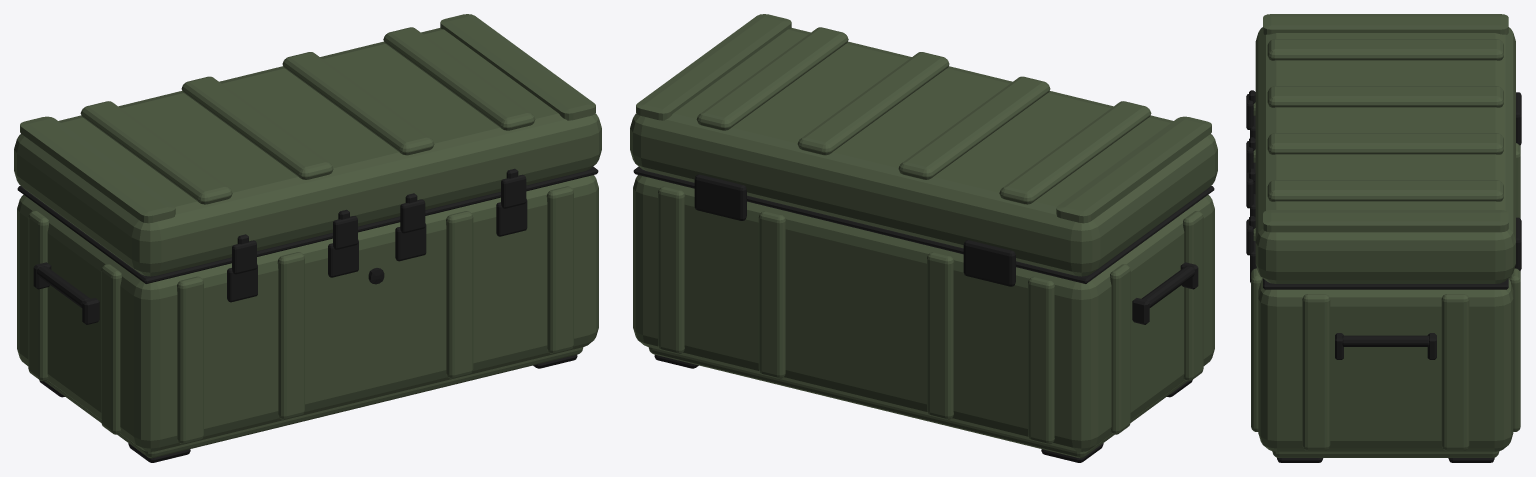
The model's file is SRZ_TransportCase.fbx.
3 views of the same model, side by side, from view 1: azimuth 30°, elevation 25°; view 2: azimuth 150°, elevation 25°; view 3: azimuth 270°, elevation 25° (orthographic). The views are drawn at different scales.
Visible parts, largest first — view 1: TransportCase; view 2: TransportCase; view 3: TransportCase.
Part boxes in pixels (x1,y1,x2,y2): TransportCase: [14, 14, 601, 462]; TransportCase: [630, 14, 1217, 462]; TransportCase: [1246, 14, 1521, 462].
Size of what is drawn, in the model's own units: 118 by 59.5 by 59.4.
